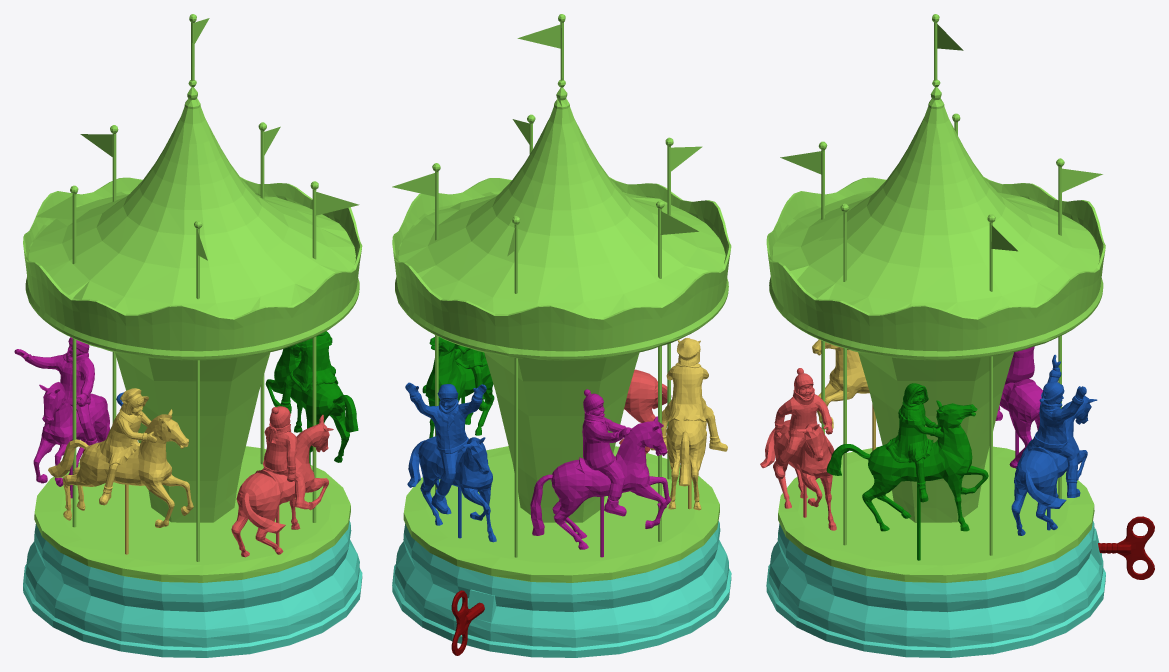
File: carousel.obj
3 renders of one model, left to right at view 1: azimuth 30°, elevation 25°; view 2: azimuth 150°, elevation 25°; view 3: azimuth 270°, elevation 25°, orthographic.
Bounding box in the file's own units: 3.91 × 7.19 × 4.5.
